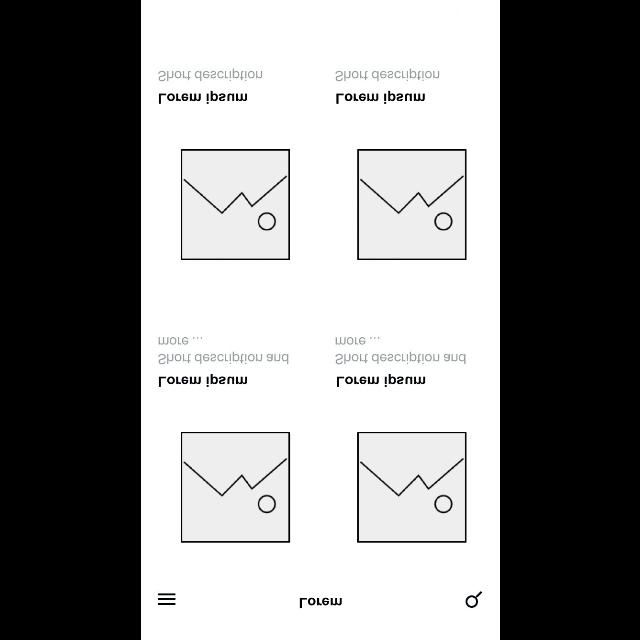icon: (466, 590, 482, 608), (157, 593, 175, 605)
image: (358, 148, 467, 260), (357, 432, 467, 542), (180, 432, 290, 542), (180, 150, 290, 260)
text: (334, 337, 466, 365), (158, 336, 288, 364), (334, 68, 440, 82), (158, 68, 262, 82), (158, 372, 248, 388), (336, 372, 426, 388), (158, 90, 248, 104), (335, 90, 425, 104), (300, 596, 342, 608)
